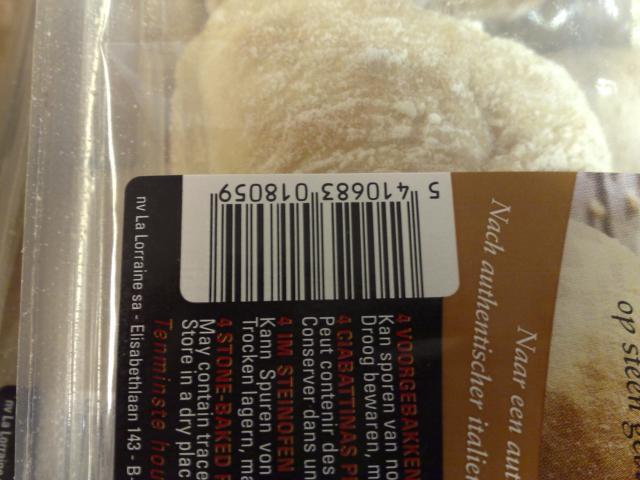Barcode: (182, 174, 463, 301)
